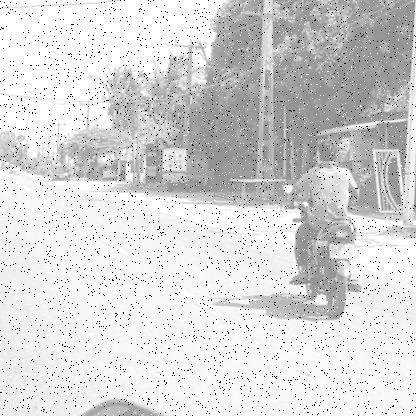motorcycle: (280, 216, 372, 322)
